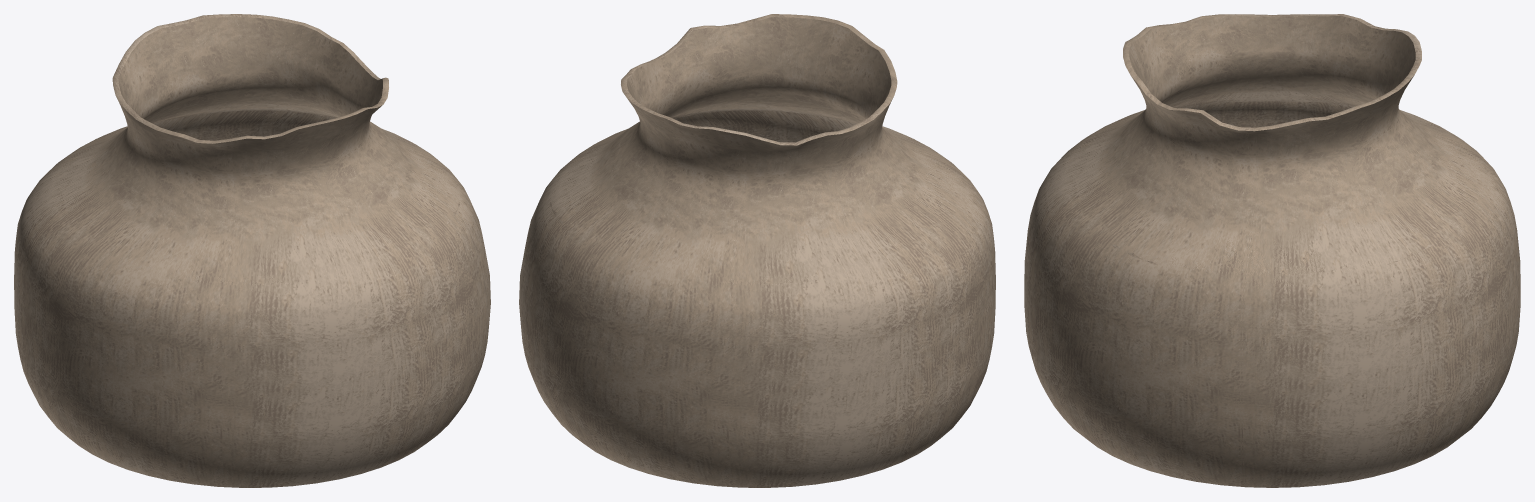
The model's file is Aiguan.obj.
3 views of the same model, side by side, from view 1: azimuth 30°, elevation 25°; view 2: azimuth 150°, elevation 25°; view 3: azimuth 270°, elevation 25° (orthographic). The views are drawn at different scales.
Parts seen in each view (by area): view 1: polySurface10; view 2: polySurface10; view 3: polySurface10.
Part boxes in pixels (x1,y1,x2,y2): polySurface10: (14, 14, 490, 487); polySurface10: (519, 14, 995, 487); polySurface10: (1024, 14, 1520, 487).
Bounding box in the file's own units: 13.12 × 10.12 × 13.08.
Materials: 2 (2 with a texture image).
